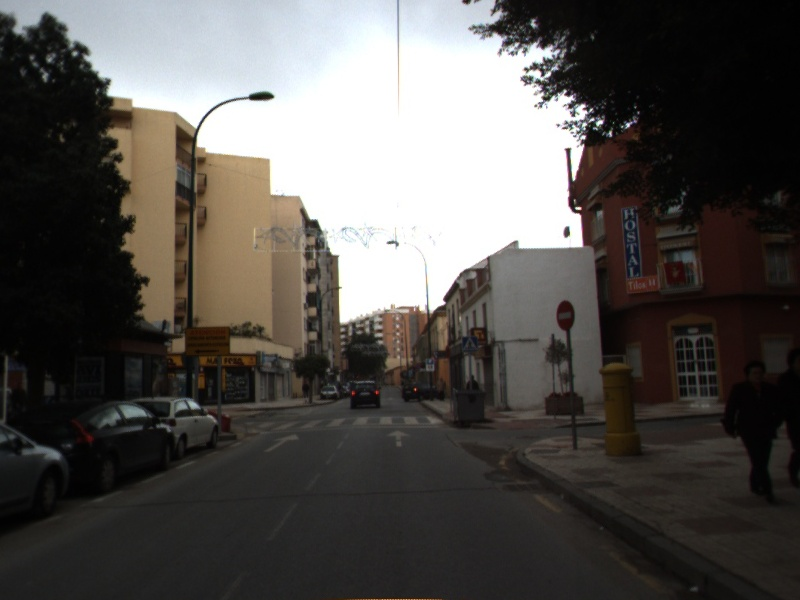STRAIGHT: (261, 432, 302, 454), (384, 428, 413, 449)
